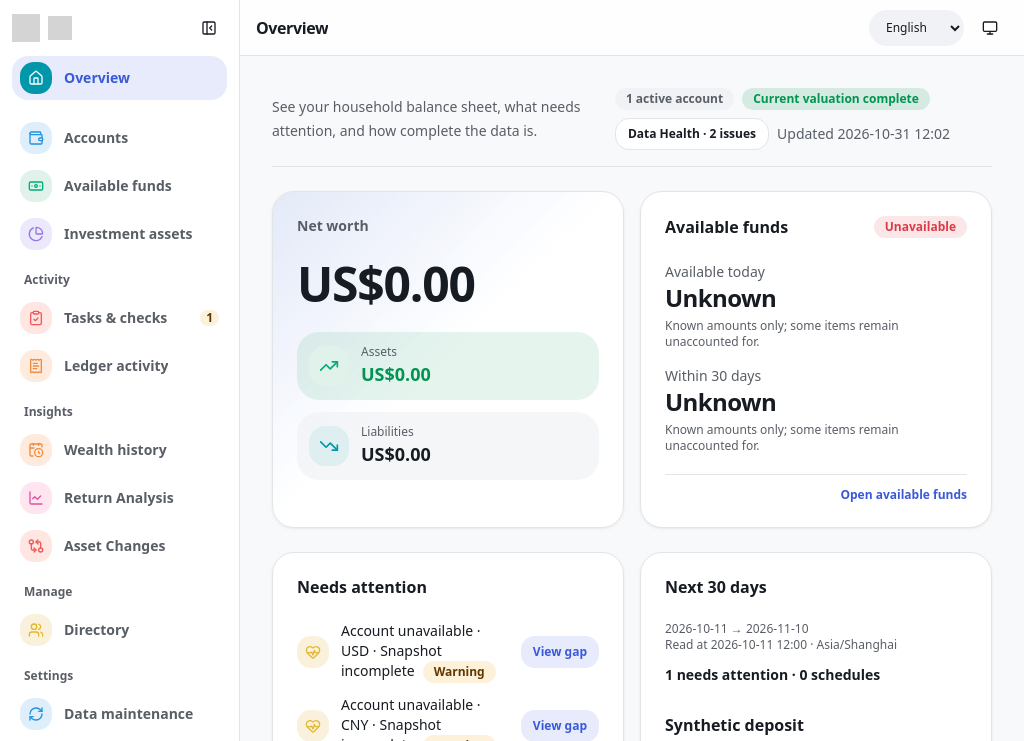
Test: preserves same-page Data Health gap focus history
Expected: the text with test id "overview-net-worth" is shown, [297,251,475,316]
Step 1. Click the button "Data maintenance" → (120,714), box [12,692,227,736]
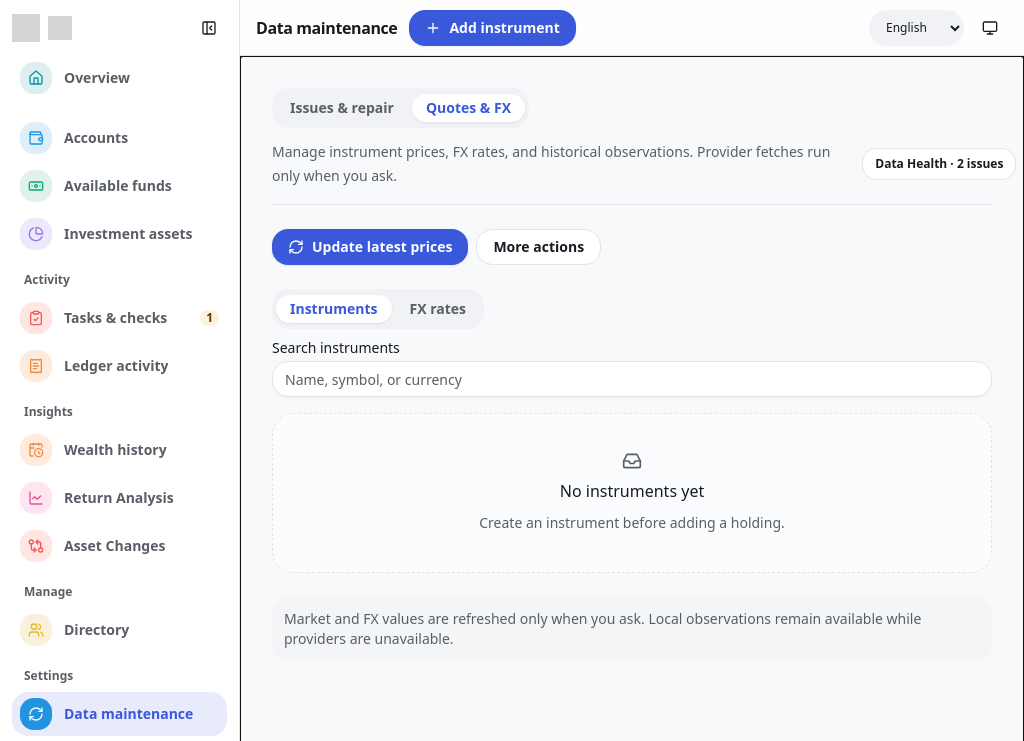
Step 2. Click the tab "Issues & repair" → (342,108), box [276,94,408,122]
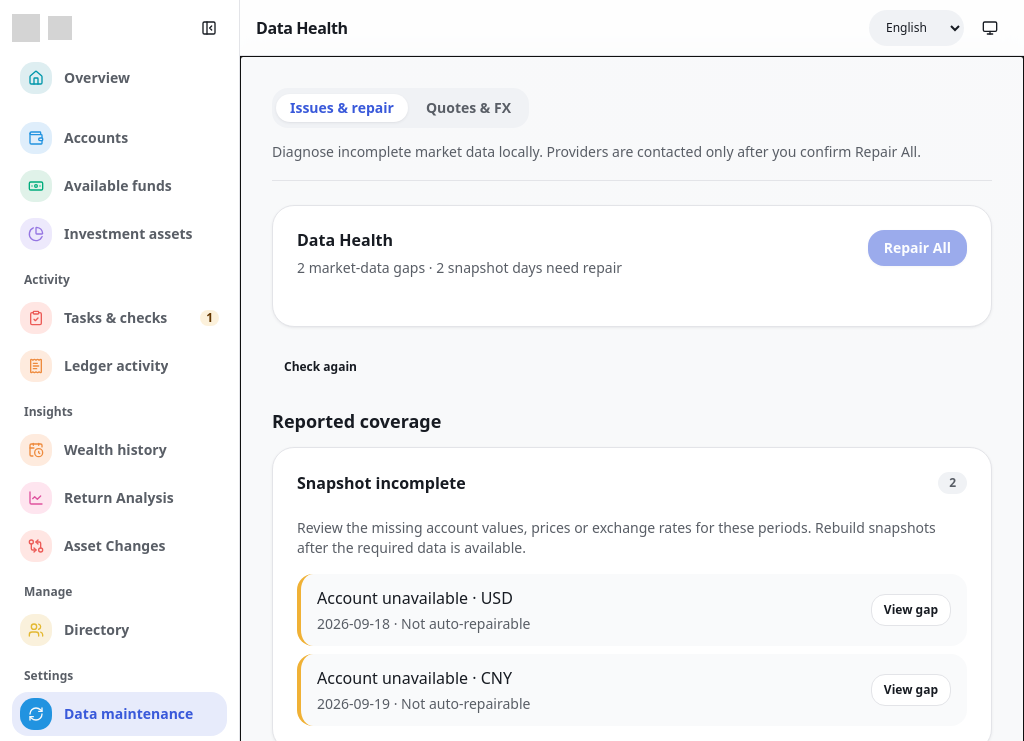
Expected: the number of list items with test id "health-issue-snapshot_incomplete" is 2, [297,574,967,646]; [297,654,967,726]
Step 3. Click the button "View gap" in the row of "Account unavailable · USD" → (911,610), box [871,594,951,626]
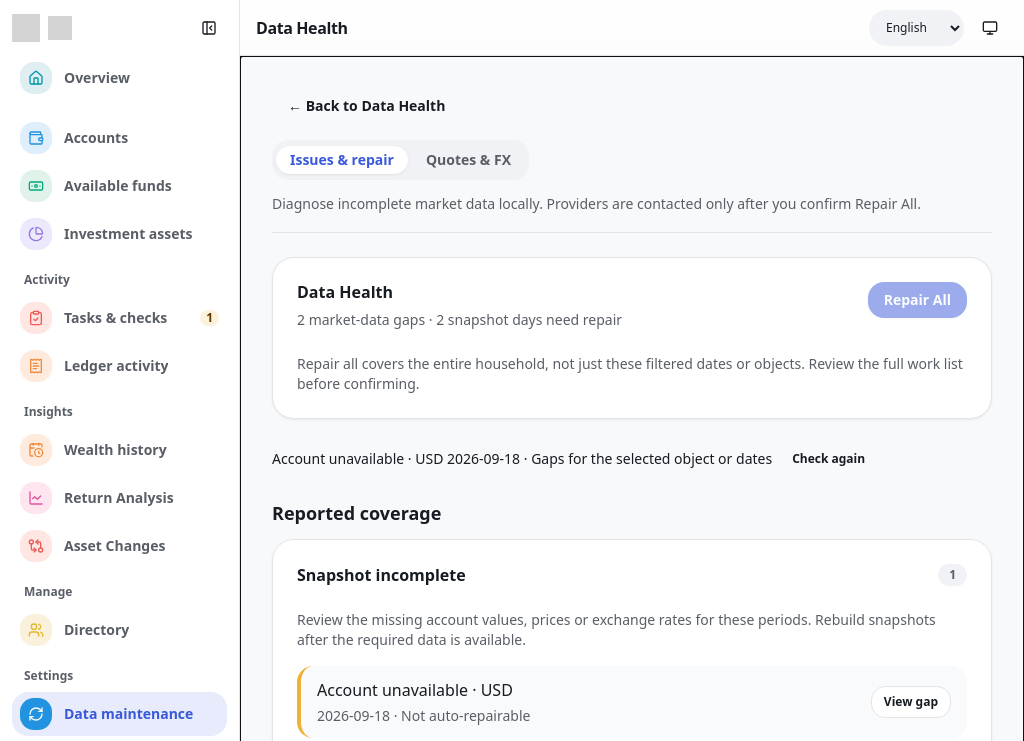
Expected: the number of list items with test id "health-issue-snapshot_incomplete" is 1, [297,666,967,738]
Step 4. Click the button "← Back to Data Health" → (367,106), box [272,88,461,124]
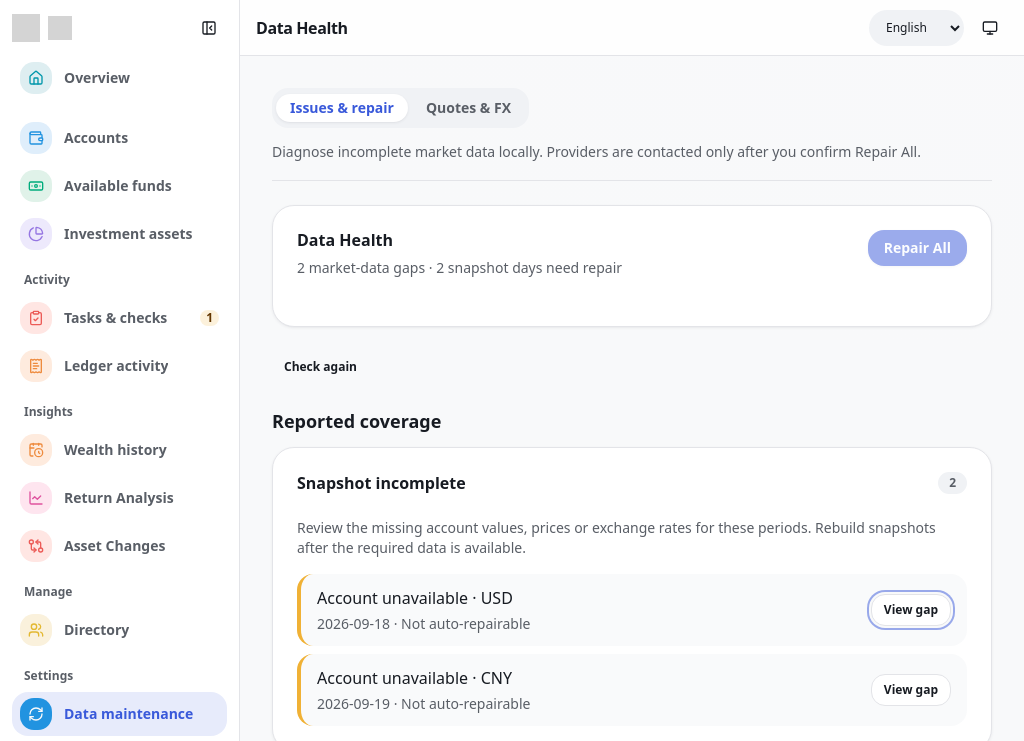
Expected: the number of list items with test id "health-issue-snapshot_incomplete" is 2, [297,574,967,646]; [297,654,967,726]
